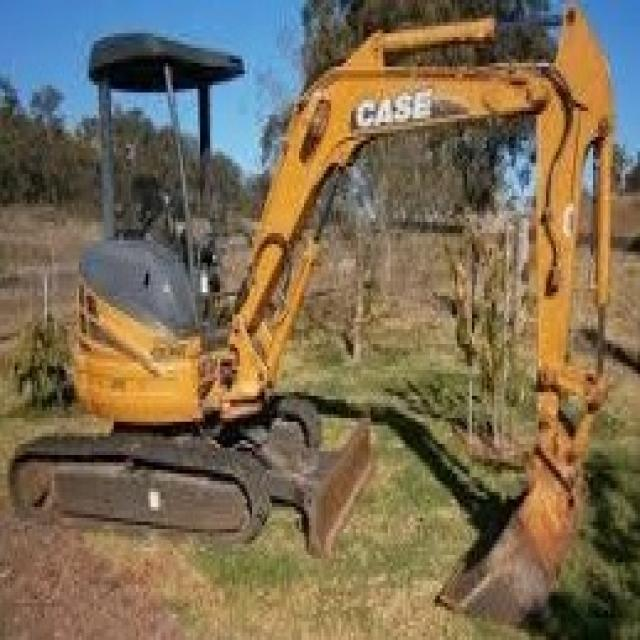excavator: (6, 18, 398, 580)
